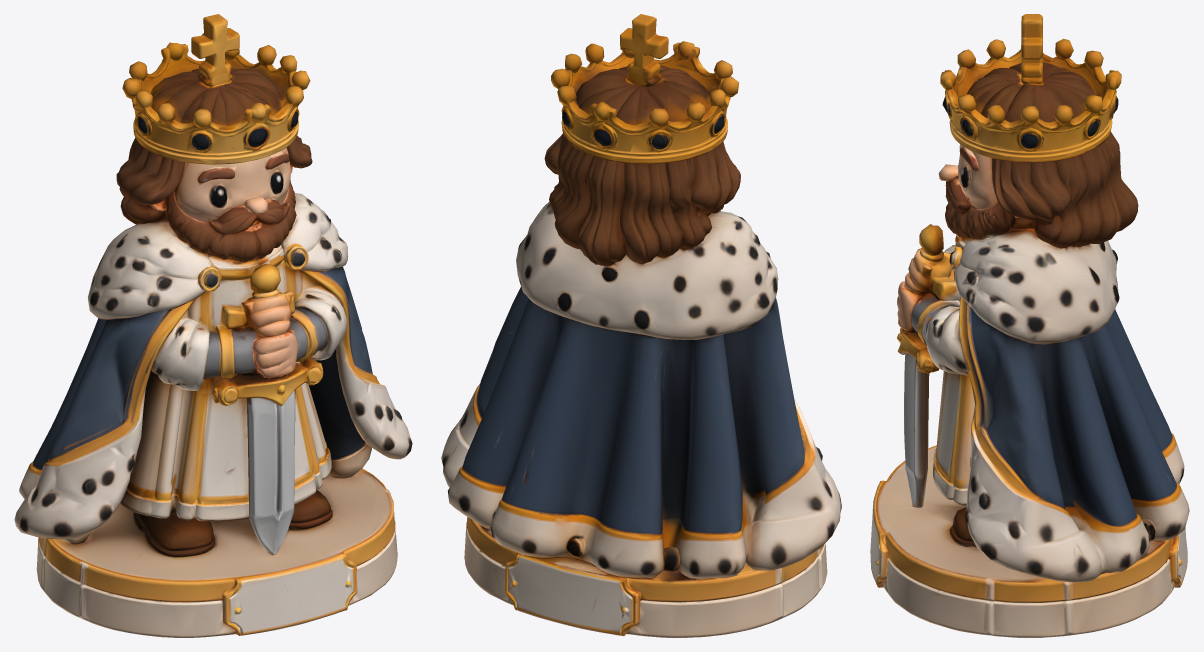
The model's file is child-crusader-k-mobile50.glb.
3 views of the same model, side by side, from view 1: azimuth 30°, elevation 25°; view 2: azimuth 150°, elevation 25°; view 3: azimuth 270°, elevation 25° (orthographic).
Visible parts, largest first — view 1: node_0; view 2: node_0; view 3: node_0.
Boxes of the visible parts, bbox=[...] form: node_0: bbox=[14, 14, 412, 637]; node_0: bbox=[441, 14, 841, 637]; node_0: bbox=[870, 14, 1189, 637].
Size of the model in its own units: 0.7447 by 1.03 by 0.5463.
Materials: 1 (1 with a texture image).
